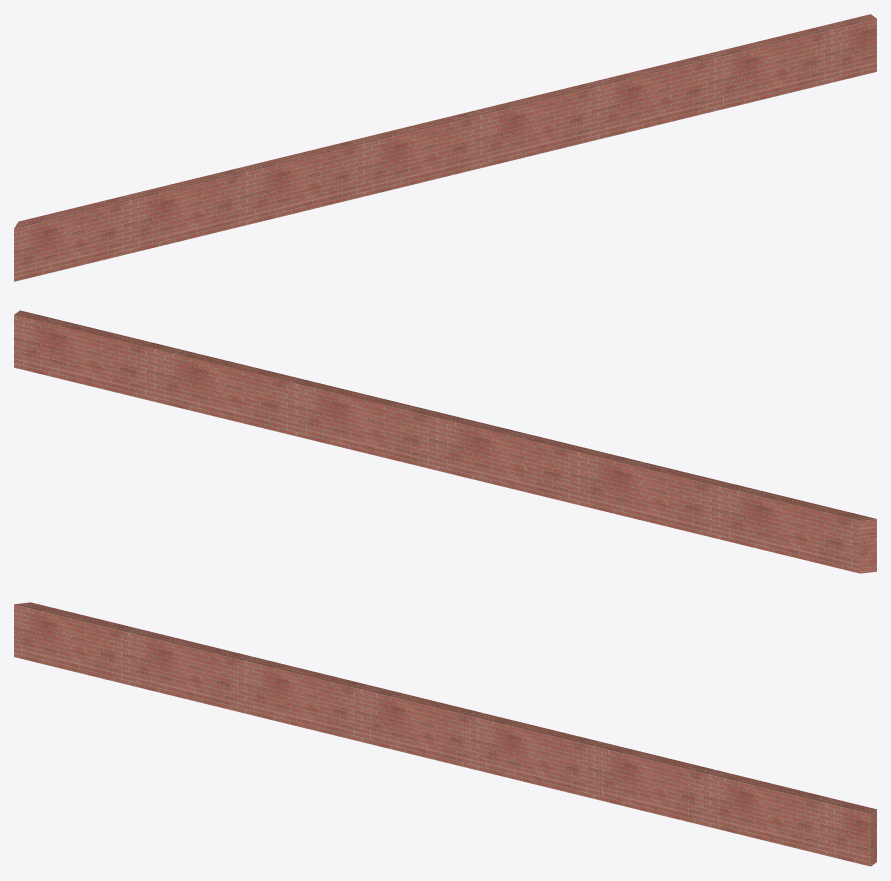
The model's file is bushes17.glb.
3 renders of one model, top to bottom at view 1: azimuth 30°, elevation 25°; view 2: azimuth 150°, elevation 25°; view 3: azimuth 330°, elevation 25°, orthographic.
Visible parts, largest first — view 1: bushes17; view 2: bushes17; view 3: bushes17.
Boxes of the visible parts, x1,y1,x2,y2 form: bushes17: (14, 14, 876, 281); bushes17: (14, 310, 876, 573); bushes17: (14, 602, 876, 866).
Size of the model in its own units: 5207 by 309 by 65.
Materials: 1 (1 with a texture image).
